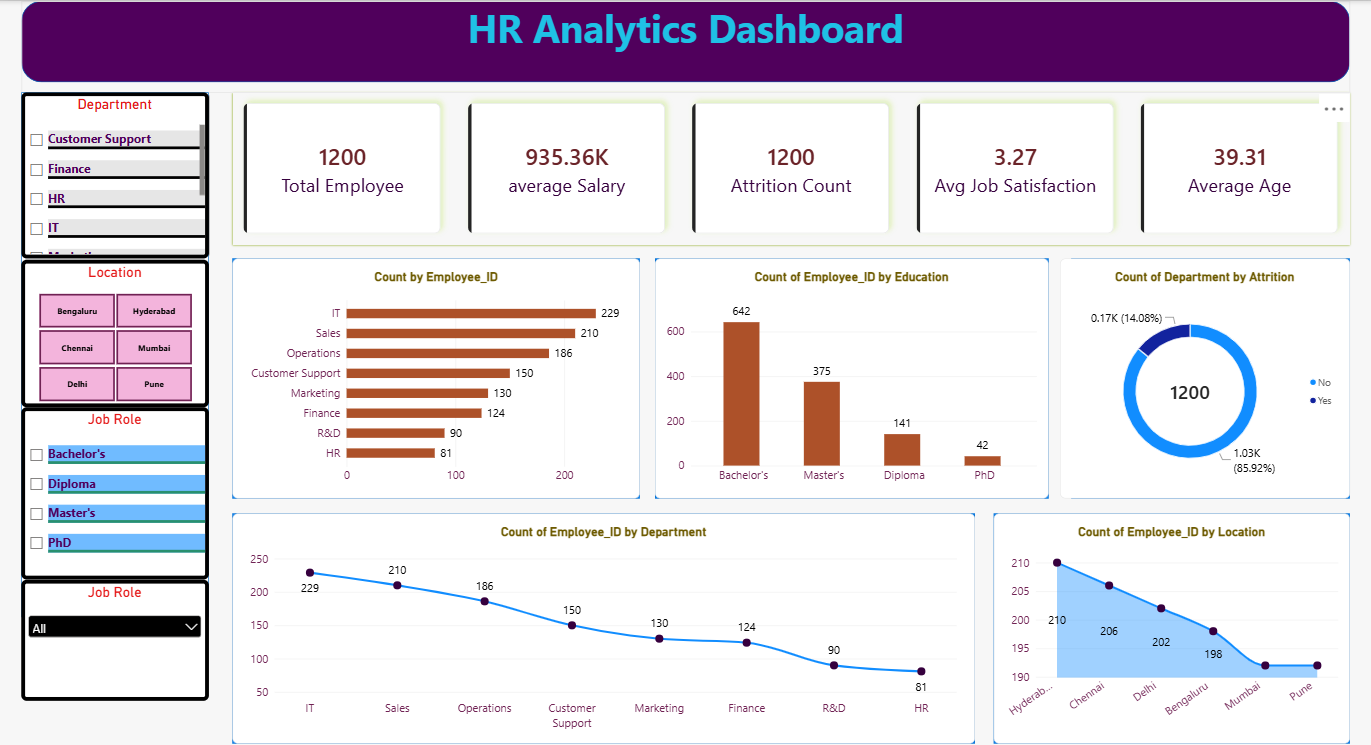

The dashboard page shown, as its layout file describes it:
{"tool":"powerbi","page":{"name":"Page 1","canvas":[2000,1080],"ordinal":0},"visuals":[{"type":"cardVisual","fields":{"Data":["hr_analytics hr_dataset.Total_employee","hr_analytics hr_dataset.average Salary","hr_analytics hr_dataset.Attrition Count","hr_analytics hr_dataset.Average Job Satisfaction","hr_analytics hr_dataset.Average Age"]},"box":[337.9,132.6,1624.3,221.7],"z":0},{"type":"shape","box":[30.9,0,1931.3,118.1],"z":1000},{"type":"textbox","box":[30.9,0,1931.3,132.6],"z":2000},{"type":"shape","box":[337.9,374.3,592.3,348.8],"z":3000},{"type":"barChart","title":"Count by  Employee_ID","fields":{"Category":["hr_analytics hr_dataset.Department"],"Y":["CountNonNull(hr_analytics hr_dataset.Employee_ID)"]},"box":[337.9,374.3,592.3,348.8],"z":4000},{"type":"shape","box":[952,374.3,572.3,348.8],"z":5000},{"type":"clusteredColumnChart","fields":{"Category":["hr_analytics hr_dataset.Education"],"Y":["CountNonNull(hr_analytics hr_dataset.Employee_ID)"]},"box":[952,374.3,572.3,348.8],"z":6000},{"type":"shape","box":[1557.1,374.3,405.2,348.8],"z":7000},{"type":"donutChart","fields":{"Category":["hr_analytics hr_dataset.Attrition"],"Y":["CountNonNull(hr_analytics hr_dataset.Department)"]},"box":[1540.7,374.3,421.5,348.8],"z":8000},{"type":"shape","box":[337.9,744.9,1079.2,334.3],"z":9000},{"type":"lineChart","fields":{"Category":["hr_analytics hr_dataset.Department"],"Y":["CountNonNull(hr_analytics hr_dataset.Employee_ID)"]},"box":[337.9,744.9,1079.2,334.3],"z":10000},{"type":"shape","box":[1444.4,744.9,517.8,334.3],"z":11000},{"type":"stackedAreaChart","fields":{"Category":["hr_analytics hr_dataset.Location"],"Y":["CountNonNull(hr_analytics hr_dataset.Employee_ID)"]},"box":[1444.4,744.9,517.8,334.3],"z":12000},{"type":"shape","box":[30.9,132.6,272.5,763.1],"z":13000},{"type":"slicer","title":"Department","fields":{"Values":["hr_analytics hr_dataset.Department"]},"box":[30.9,132.6,272.5,241.6],"z":14000},{"type":"slicer","title":"Location","fields":{"Values":["hr_analytics hr_dataset.Location"]},"box":[30.9,376.1,272.5,214.4],"z":15000},{"type":"slicer","title":"Job Role","fields":{"Values":["hr_analytics hr_dataset.Education"]},"box":[30.9,590.5,272.5,250.7],"z":16000},{"type":"slicer","title":"Job Role ","fields":{"Values":["hr_analytics hr_dataset.Job_Role"]},"box":[30.9,841.2,272.5,176.2],"z":16001}]}

Visuals, with their boxes in screenshot pixels (x1, y1, x2, y2), scaled from the page's 2000x1080 canvas onto the 1371x745 screenshot:
cardVisual - hr_analytics hr_dataset.Total_employee x hr_analytics hr_dataset.average Salary: bbox(232, 91, 1345, 244)
shape: bbox(21, 0, 1345, 81)
textbox: bbox(21, 0, 1345, 91)
shape: bbox(232, 258, 638, 499)
"Count by  Employee_ID" barChart: bbox(232, 258, 638, 499)
shape: bbox(653, 258, 1045, 499)
clusteredColumnChart - hr_analytics hr_dataset.Education x CountNonNull(hr_analytics hr_dataset.Employee_ID): bbox(653, 258, 1045, 499)
shape: bbox(1067, 258, 1345, 499)
donutChart - hr_analytics hr_dataset.Attrition x CountNonNull(hr_analytics hr_dataset.Department): bbox(1056, 258, 1345, 499)
shape: bbox(232, 514, 971, 744)
lineChart - hr_analytics hr_dataset.Department x CountNonNull(hr_analytics hr_dataset.Employee_ID): bbox(232, 514, 971, 744)
shape: bbox(990, 514, 1345, 744)
stackedAreaChart - hr_analytics hr_dataset.Location x CountNonNull(hr_analytics hr_dataset.Employee_ID): bbox(990, 514, 1345, 744)
shape: bbox(21, 91, 208, 618)
"Department" slicer: bbox(21, 91, 208, 258)
"Location" slicer: bbox(21, 259, 208, 407)
"Job Role" slicer: bbox(21, 407, 208, 580)
"Job Role " slicer: bbox(21, 580, 208, 702)
